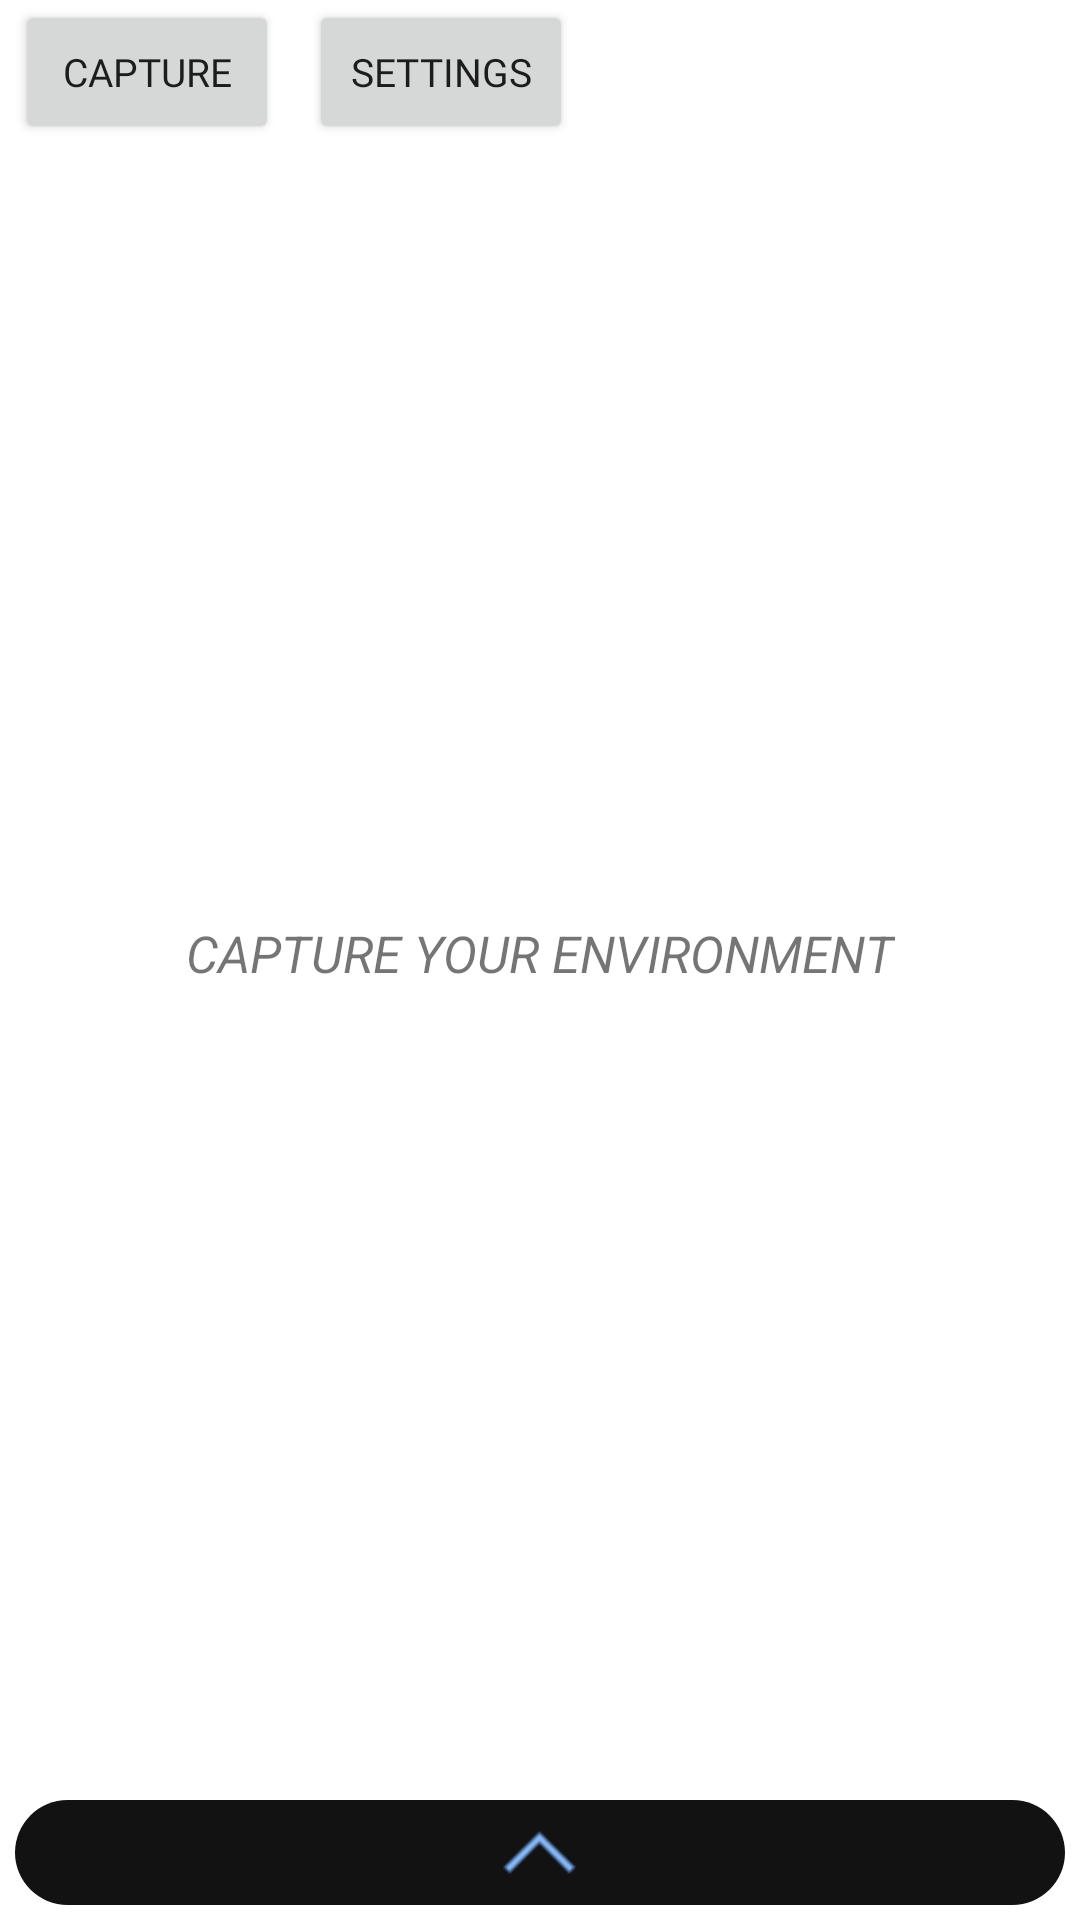

Screen size 1080px x 1920px. Icon name, then its center in pixels as (x=x, y=y):
collapse arrow: (x=539, y=1853)
